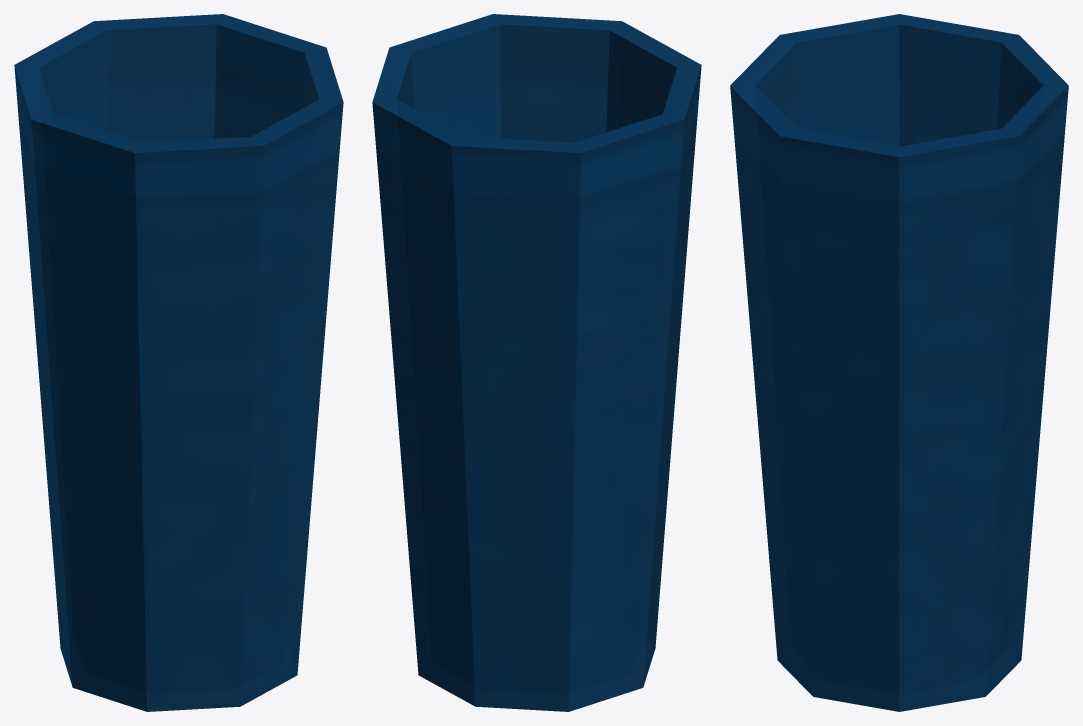
The model's file is BlueCup.fbx.
The picture shows the model from 3 angles, left to right: view 1: azimuth 30°, elevation 25°; view 2: azimuth 150°, elevation 25°; view 3: azimuth 270°, elevation 25°; orthographic projection.
Visible parts, largest first — view 1: Cup.018; view 2: Cup.018; view 3: Cup.018.
Part boxes in pixels (bbox=[...]): Cup.018: bbox=[14, 14, 343, 711]; Cup.018: bbox=[372, 14, 701, 711]; Cup.018: bbox=[730, 14, 1068, 711].
Size of the model in its own units: 19.08 by 35.73 by 19.08.
